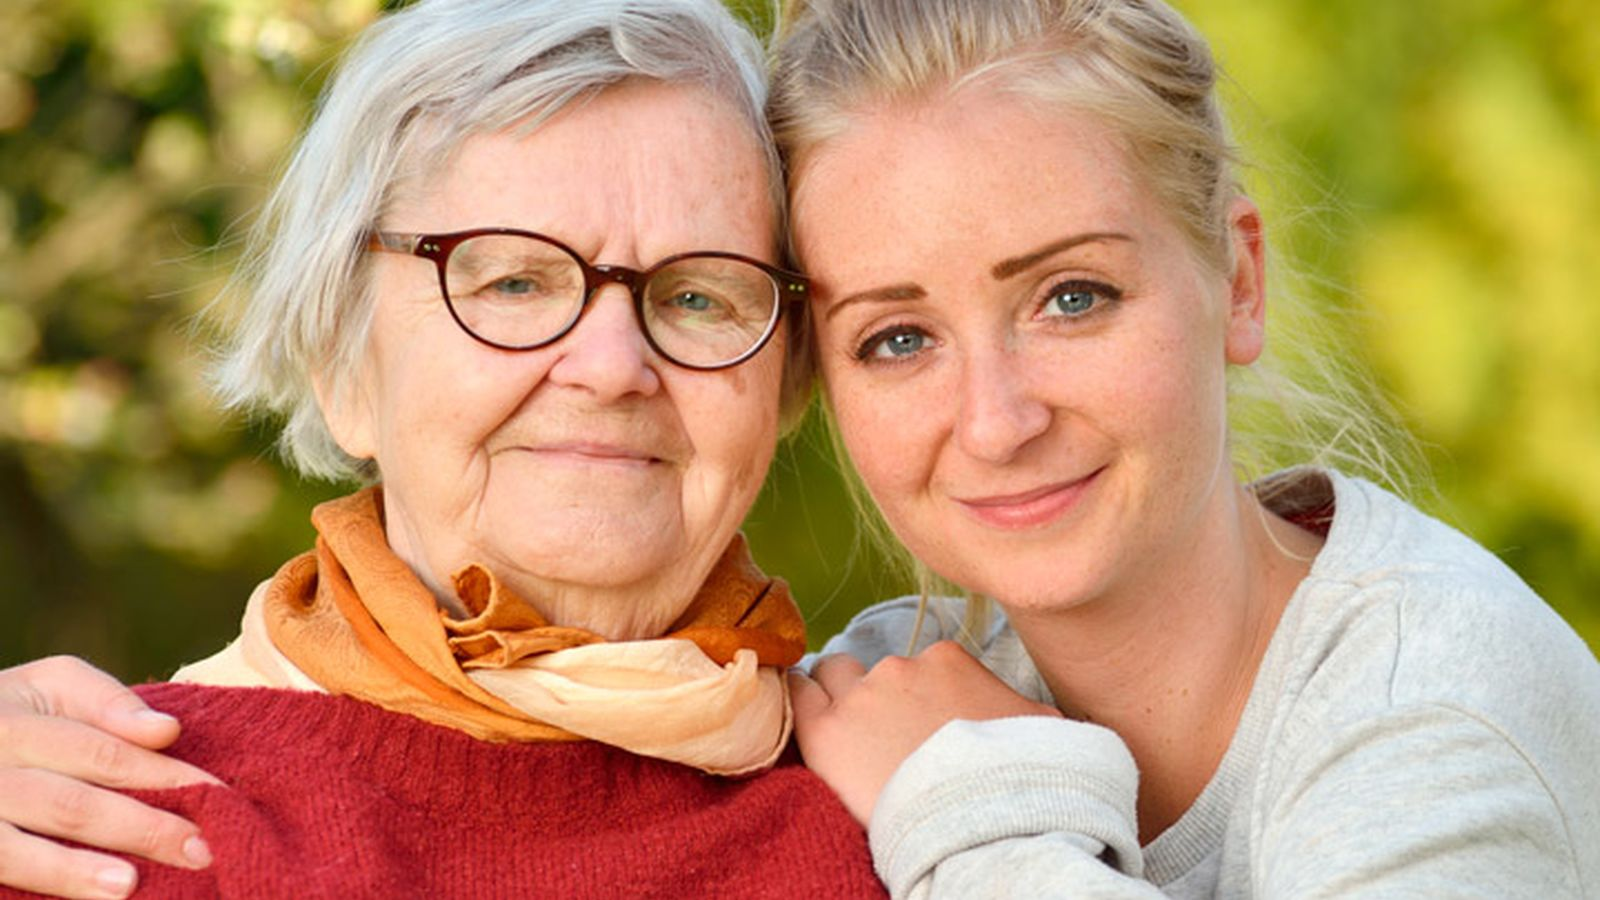without_mask: (836, 216, 1174, 571), (431, 213, 748, 584)
